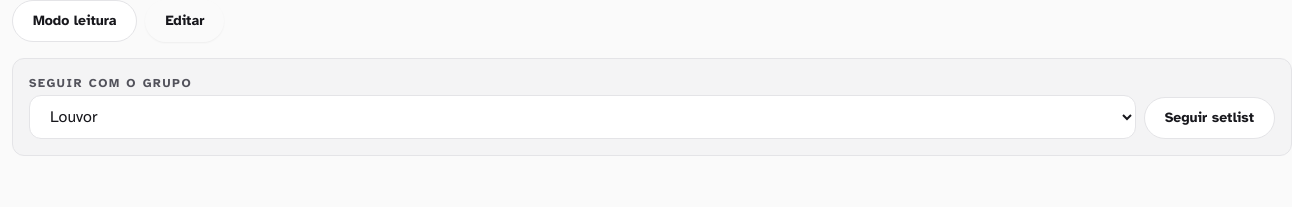
SetlistActions › renders Alert when follow fails
The image size is (1292, 207).
Click the button "Seguir setlist" at (1209, 118), box left=1144, top=97, right=1275, bottom=139
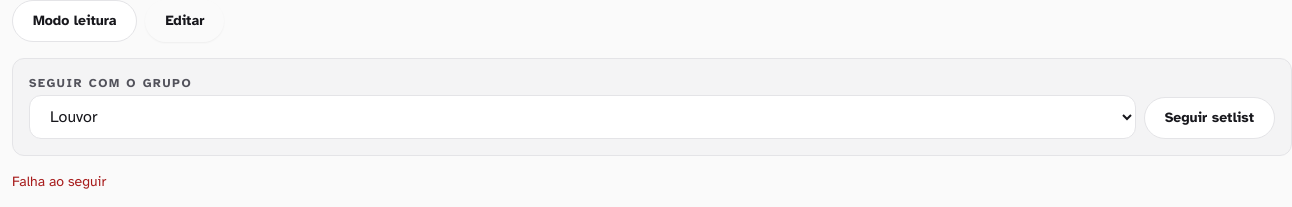
Now the message reads "Falha ao seguir", box left=12, top=173, right=106, bottom=190
